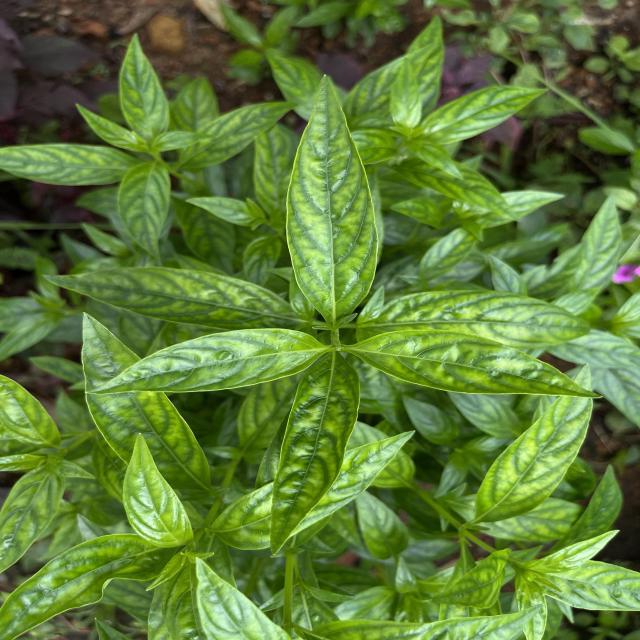Andrographis paniculata: (76, 309, 216, 495), (282, 72, 382, 324), (266, 353, 363, 560), (346, 329, 606, 400), (80, 326, 328, 396), (42, 266, 298, 332), (473, 391, 594, 525), (356, 288, 594, 351), (119, 429, 196, 547), (387, 158, 524, 224), (175, 100, 303, 170), (418, 84, 551, 146), (0, 471, 67, 574), (0, 142, 133, 188), (116, 161, 174, 262), (118, 31, 172, 139), (353, 490, 413, 562), (72, 101, 148, 153), (184, 196, 264, 229), (388, 55, 422, 128)
